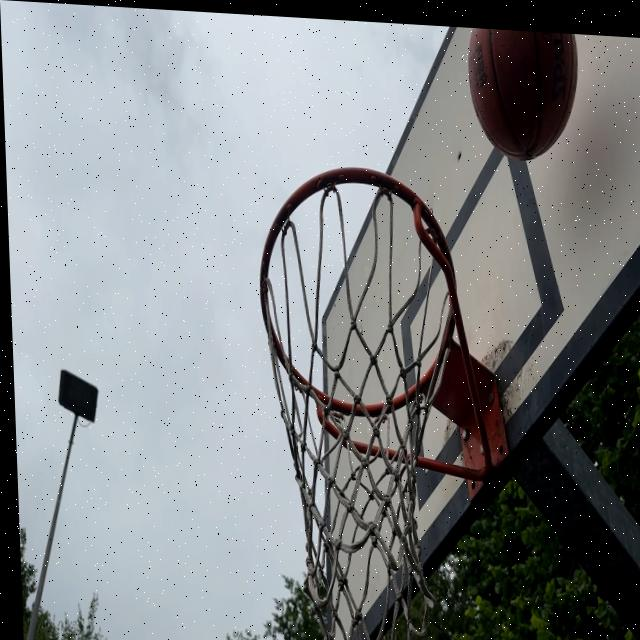Basketball: (465, 28, 578, 159)
